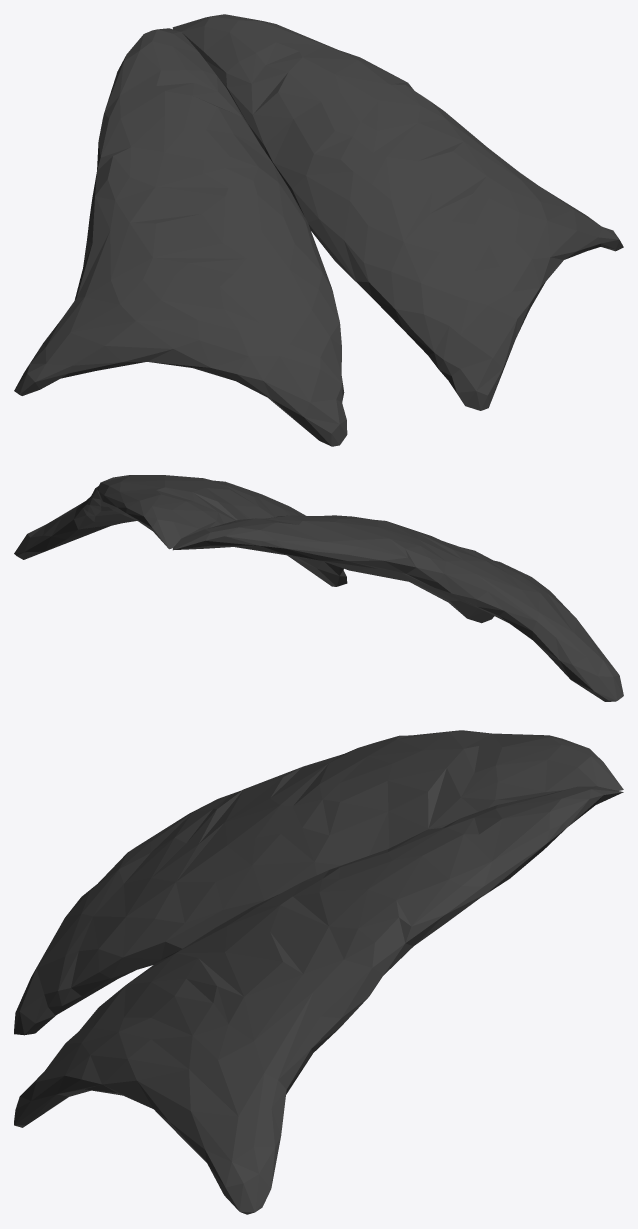
File: m_interscutularis.glb
3 views of the same model, one above another, from view 1: azimuth 30°, elevation 25°; view 2: azimuth 150°, elevation 25°; view 3: azimuth 270°, elevation 25° (orthographic). The views are drawn at different scales.
Visible parts, largest first — view 1: m_interscutularis; view 2: m_interscutularis; view 3: m_interscutularis.
Part boxes in pixels (box(x1,y1,x2,y2)): m_interscutularis: box(14, 14, 623, 446); m_interscutularis: box(14, 475, 623, 701); m_interscutularis: box(14, 730, 623, 1214).
Size of the model in its own units: 0.00156 by 0.000598 by 0.00107.
Materials: 1 (1 with a texture image).
